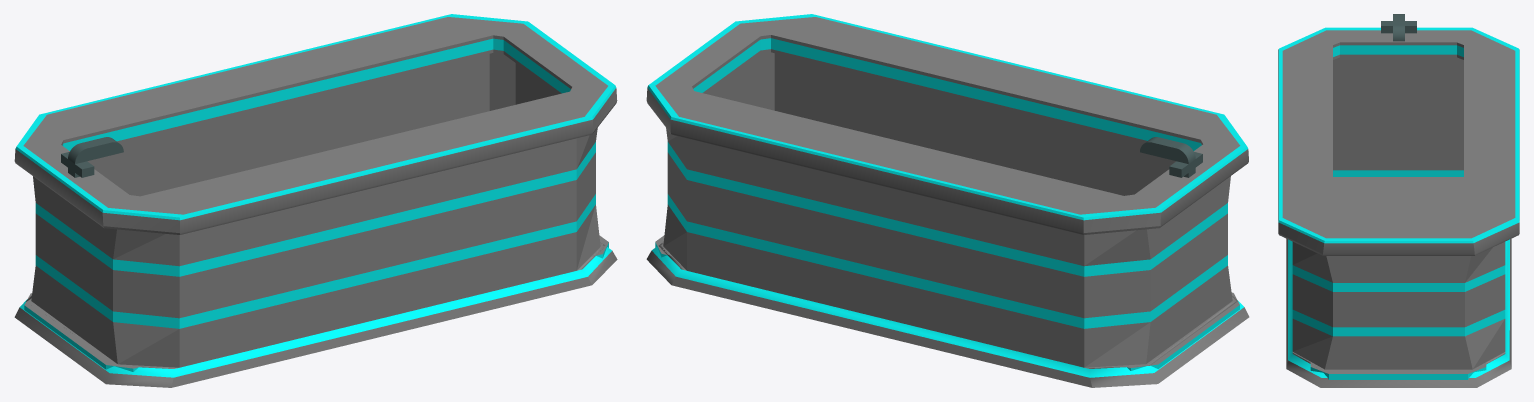
The model's file is bathtub.glb.
3 views of the same model, side by side, from view 1: azimuth 30°, elevation 25°; view 2: azimuth 150°, elevation 25°; view 3: azimuth 270°, elevation 25° (orthographic). The views are drawn at different scales.
Parts seen in each view (by area): view 1: bathtub; view 2: bathtub; view 3: bathtub.
Part boxes in pixels (bbox=[...]): bathtub: bbox=[14, 14, 617, 387]; bathtub: bbox=[646, 14, 1249, 387]; bathtub: bbox=[1278, 14, 1519, 387].
Size of the model in its own units: 2.09 by 0.7755 by 1.
